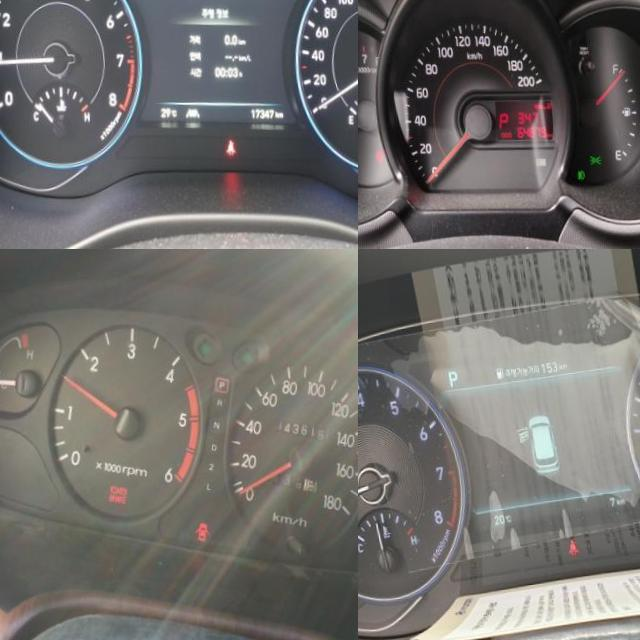Doors: (187, 523, 204, 544)
FrontFogLight: (570, 171, 580, 184)
SideLamp: (583, 157, 595, 168)
